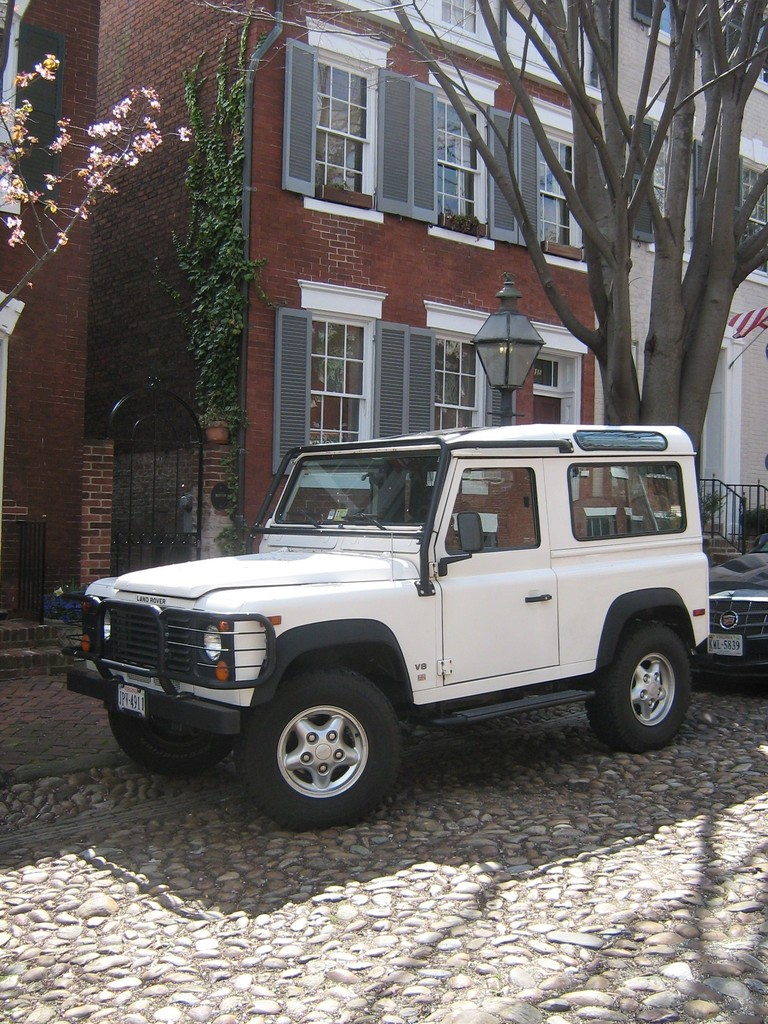Car: (683, 529, 767, 688)
